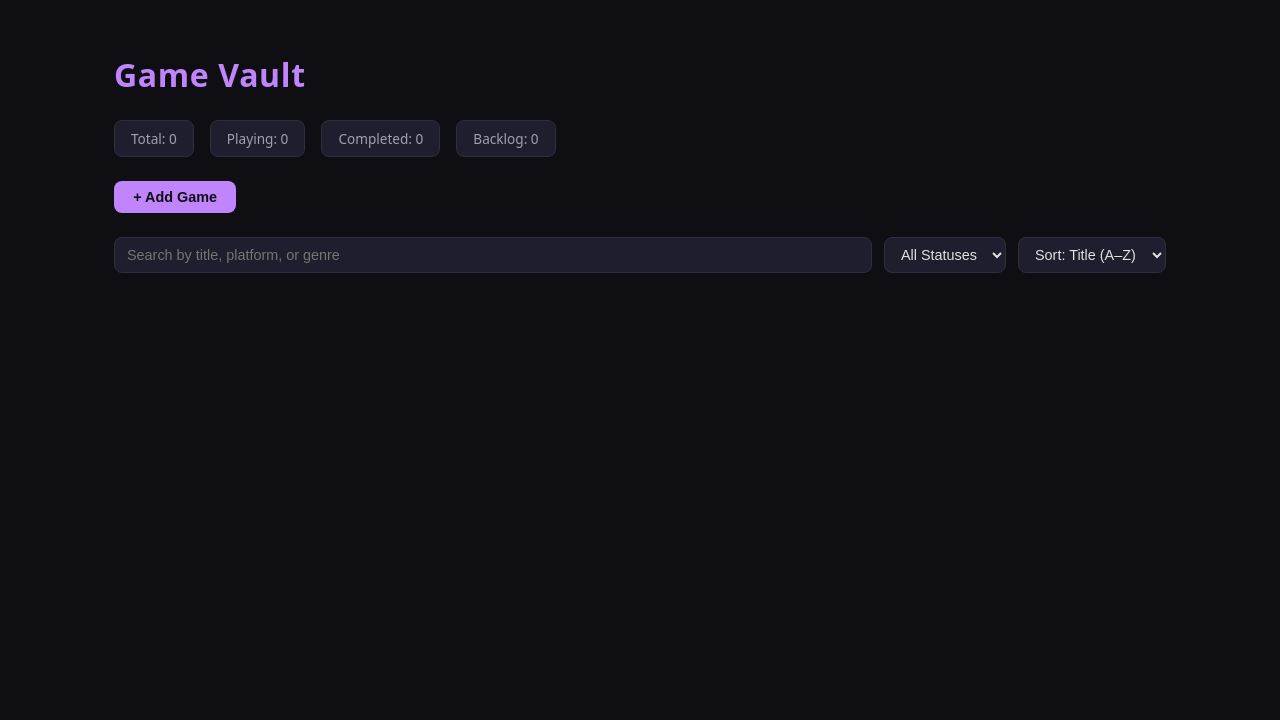
Test: Add Game › shows error when saving without a title
Click the button "+ Add Game".
click(175, 197)  # box [114,181,236,213]
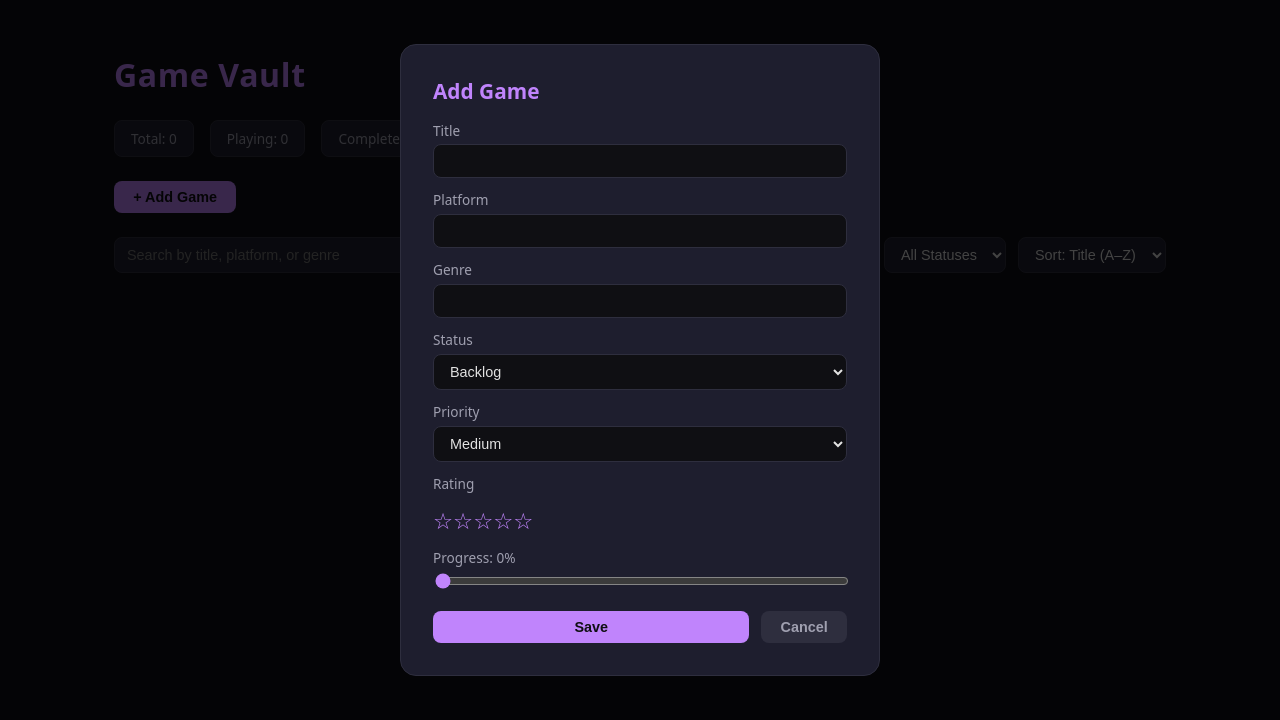
Type "PS4" into the field labelled "Platform".
click(640, 231); type("PS4")  # box [433,214,847,248]
Type "RPG" into the field labelled "Genre".
click(640, 301); type("RPG")  # box [433,284,847,318]
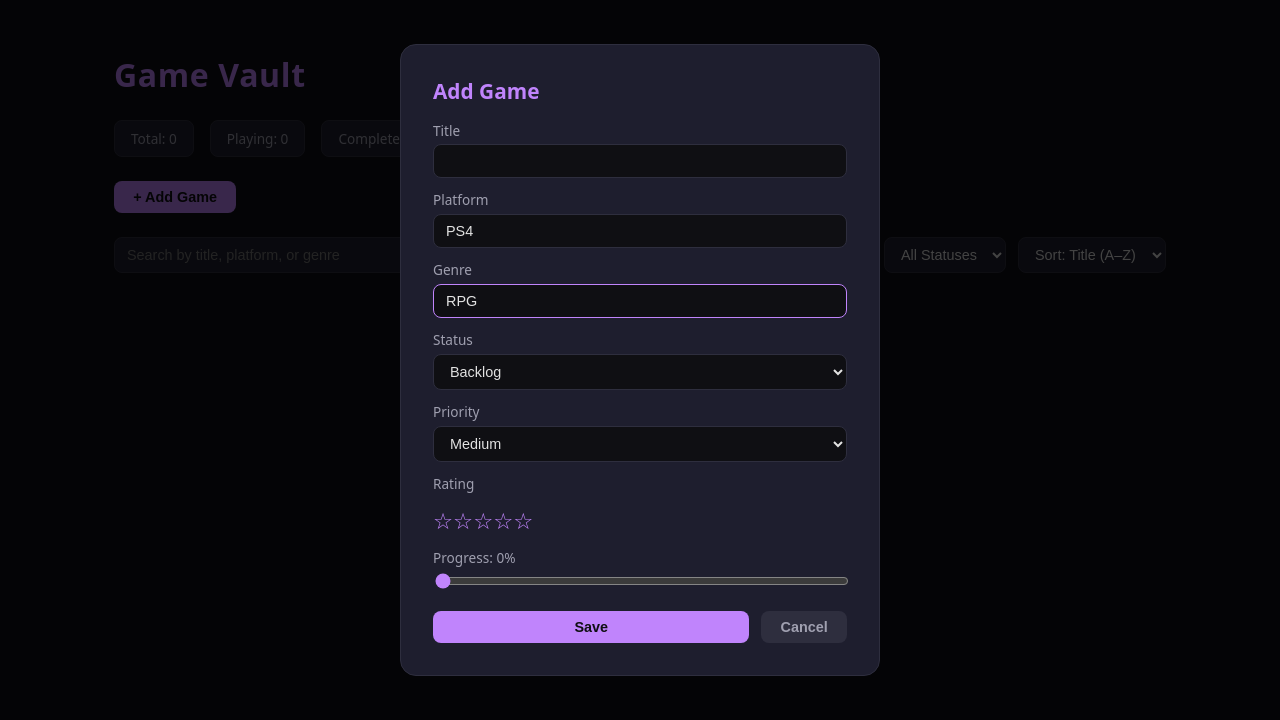
Select "Playing" in the dropdown labelled "Status" at (640, 372), box [433,354,847,390]
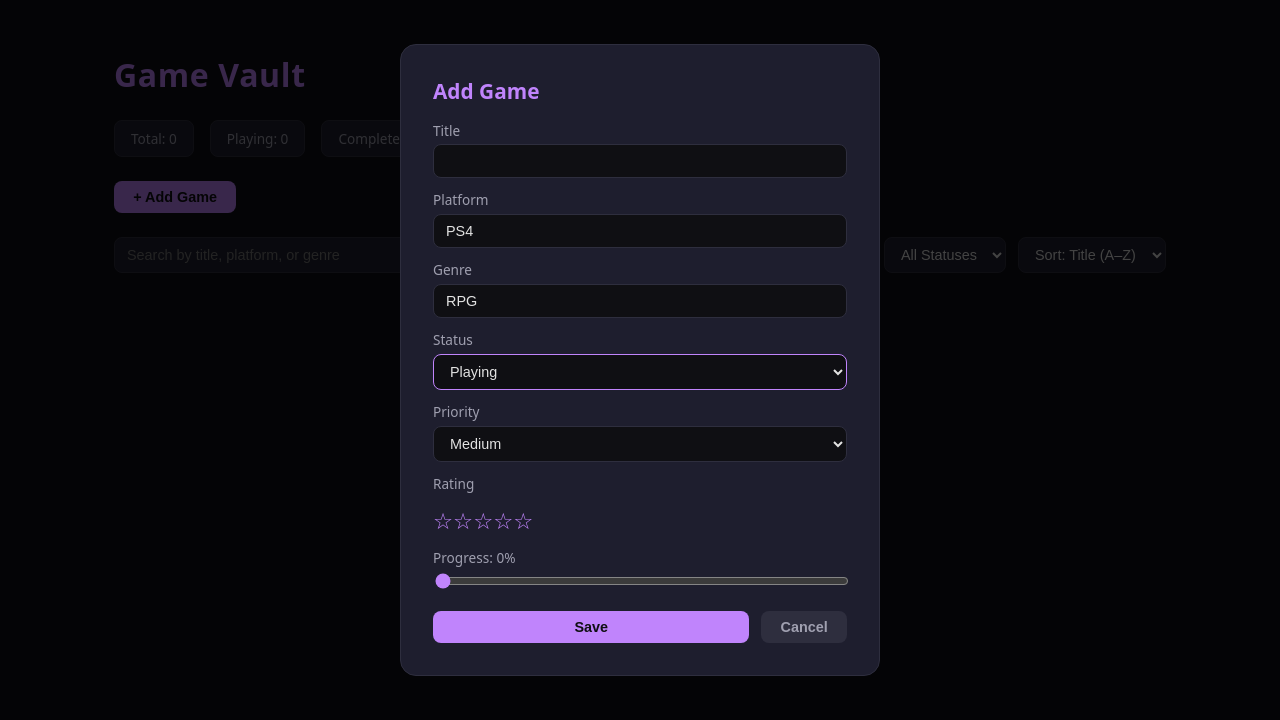
Select "High" in the dropdown labelled "Priority" at (640, 444), box [433,426,847,462]
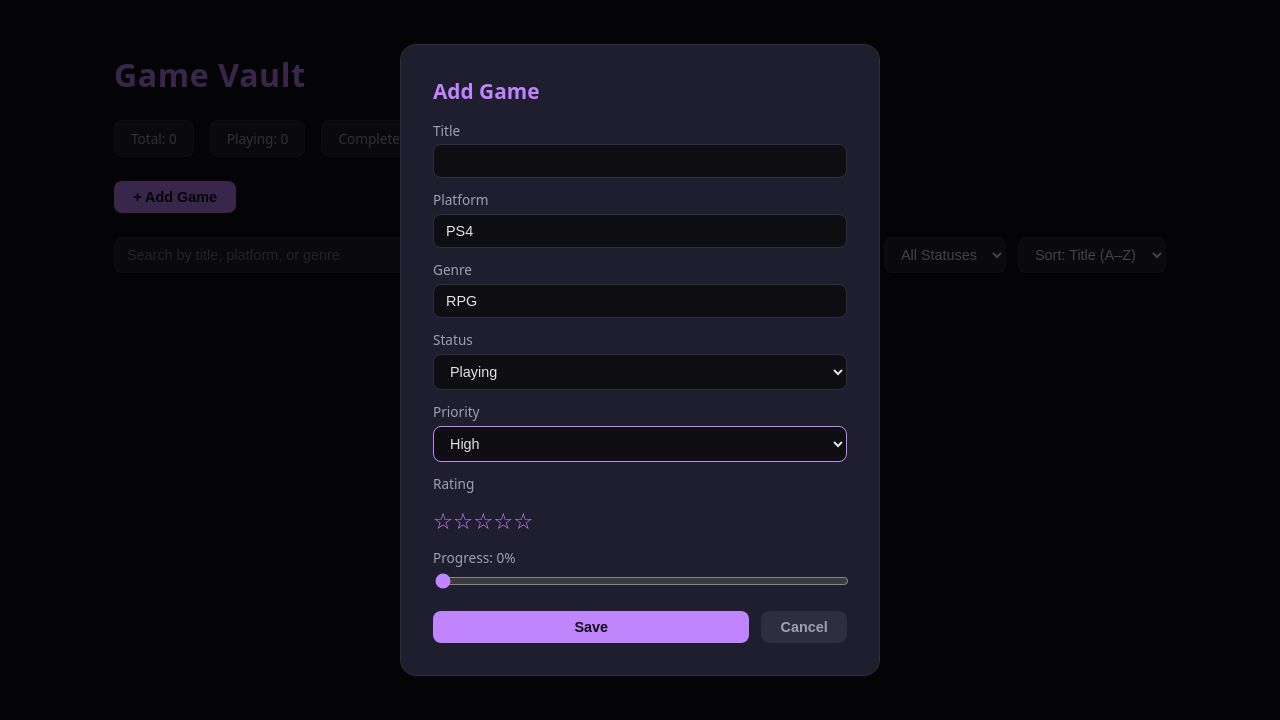
Click the 4th text "☆".
click(503, 521)  # box [493,505,513,536]
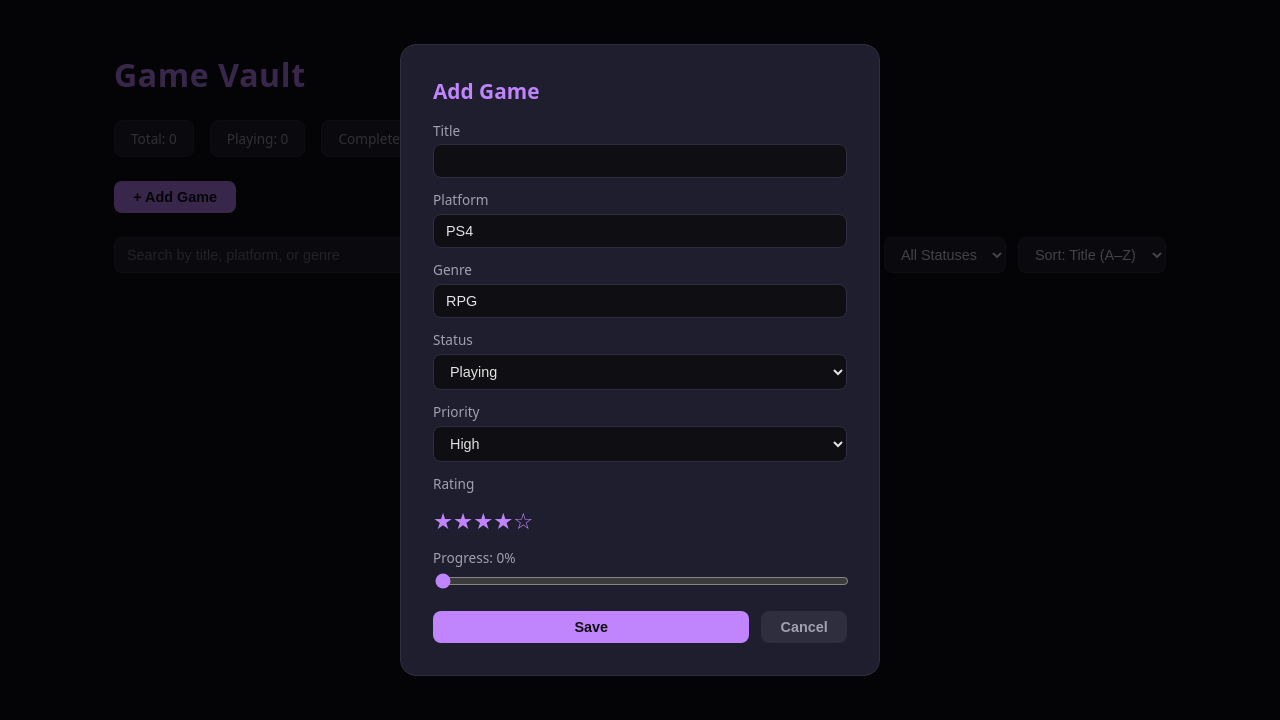
Click the button "Save".
click(591, 627)  # box [433,611,749,643]
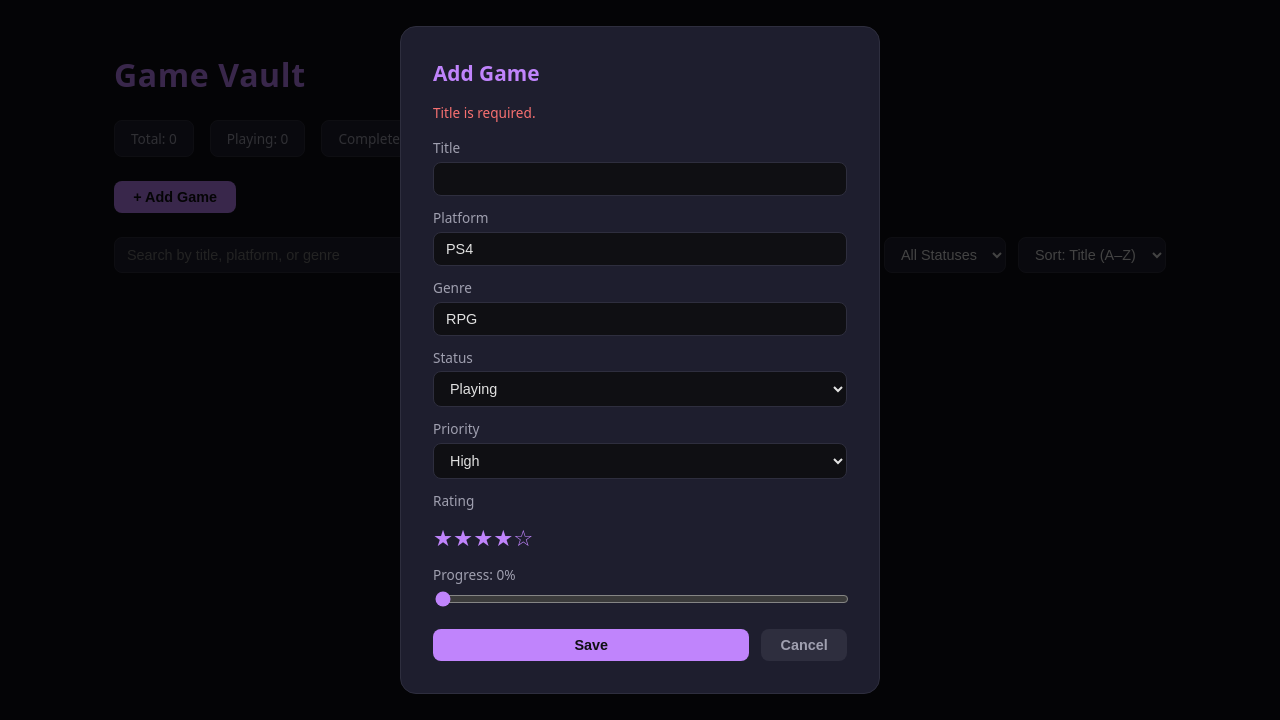
Expected: the text "Title is required." is shown, [433,103,536,122]
